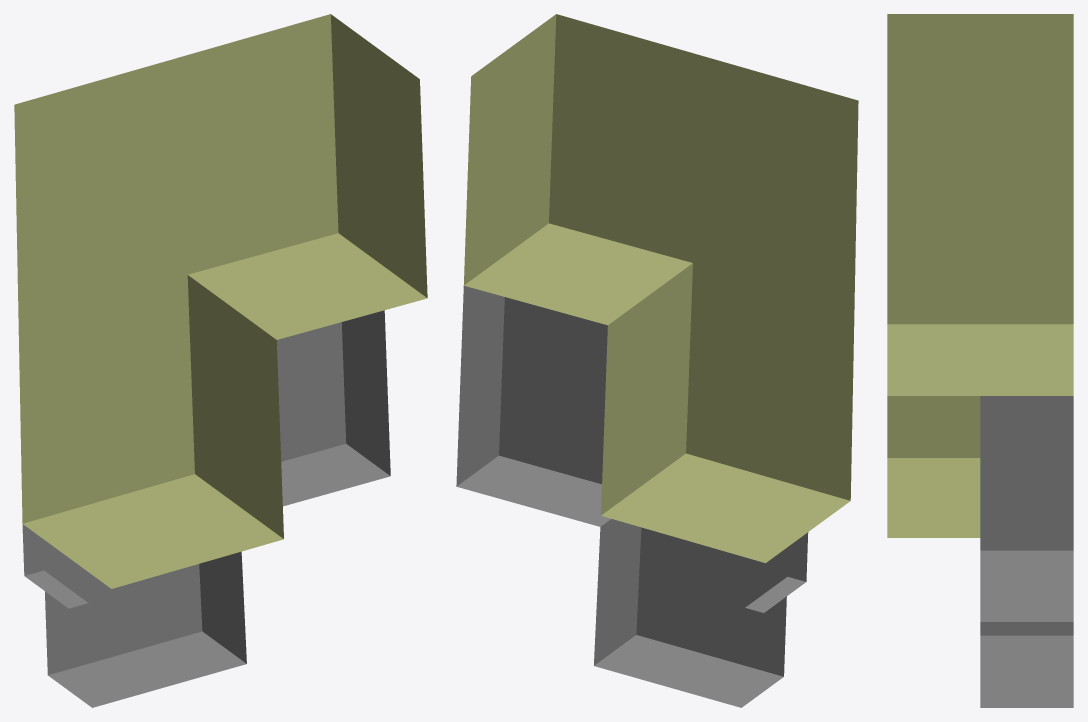
3 renders of one model, left to right at view 1: azimuth 30°, elevation 25°; view 2: azimuth 150°, elevation 25°; view 3: azimuth 270°, elevation 25°, orthographic. The views are drawn at different scales.
Parts seen in each view (by area): view 1: 0_3_0_1_2_2_2_2_0_1; view 2: 0_3_0_1_2_2_2_2_0_1; view 3: 0_3_0_1_2_2_2_2_0_1.
Boxes of the visible parts, <box> form: 0_3_0_1_2_2_2_2_0_1: <box>14,14,427,707</box>; 0_3_0_1_2_2_2_2_0_1: <box>456,14,858,707</box>; 0_3_0_1_2_2_2_2_0_1: <box>887,14,1073,707</box>.
Size of the model in its own units: 12.9 by 22 by 6.
